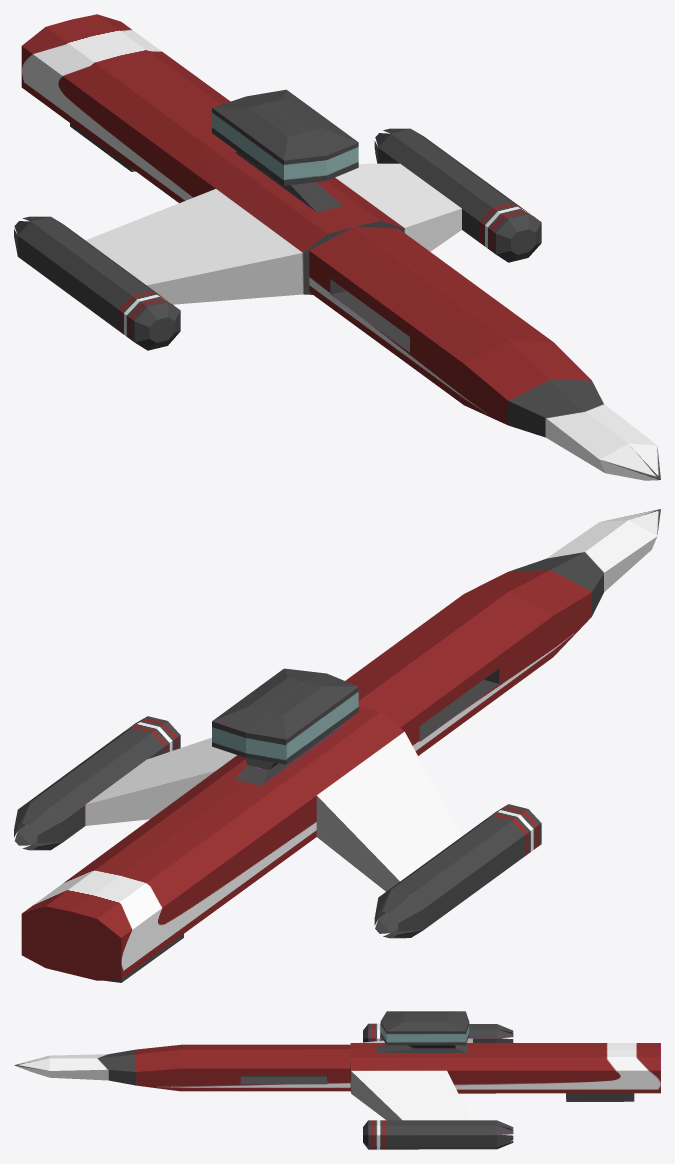
The model's file is levaisseau.fbx.
The picture shows the model from 3 angles, top to bottom: view 1: azimuth 30°, elevation 25°; view 2: azimuth 150°, elevation 25°; view 3: azimuth 270°, elevation 25°; orthographic projection. The views are drawn at different scales.
Parts seen in each view (by area): view 1: Cube; view 2: Cube; view 3: Cube.
Boxes of the visible parts, <box> form: Cube: <box>14,14,660,480</box>; Cube: <box>14,509,660,982</box>; Cube: <box>14,1011,660,1149</box>.
Bounding box in the file's own units: 15841 × 5506 × 39756.
